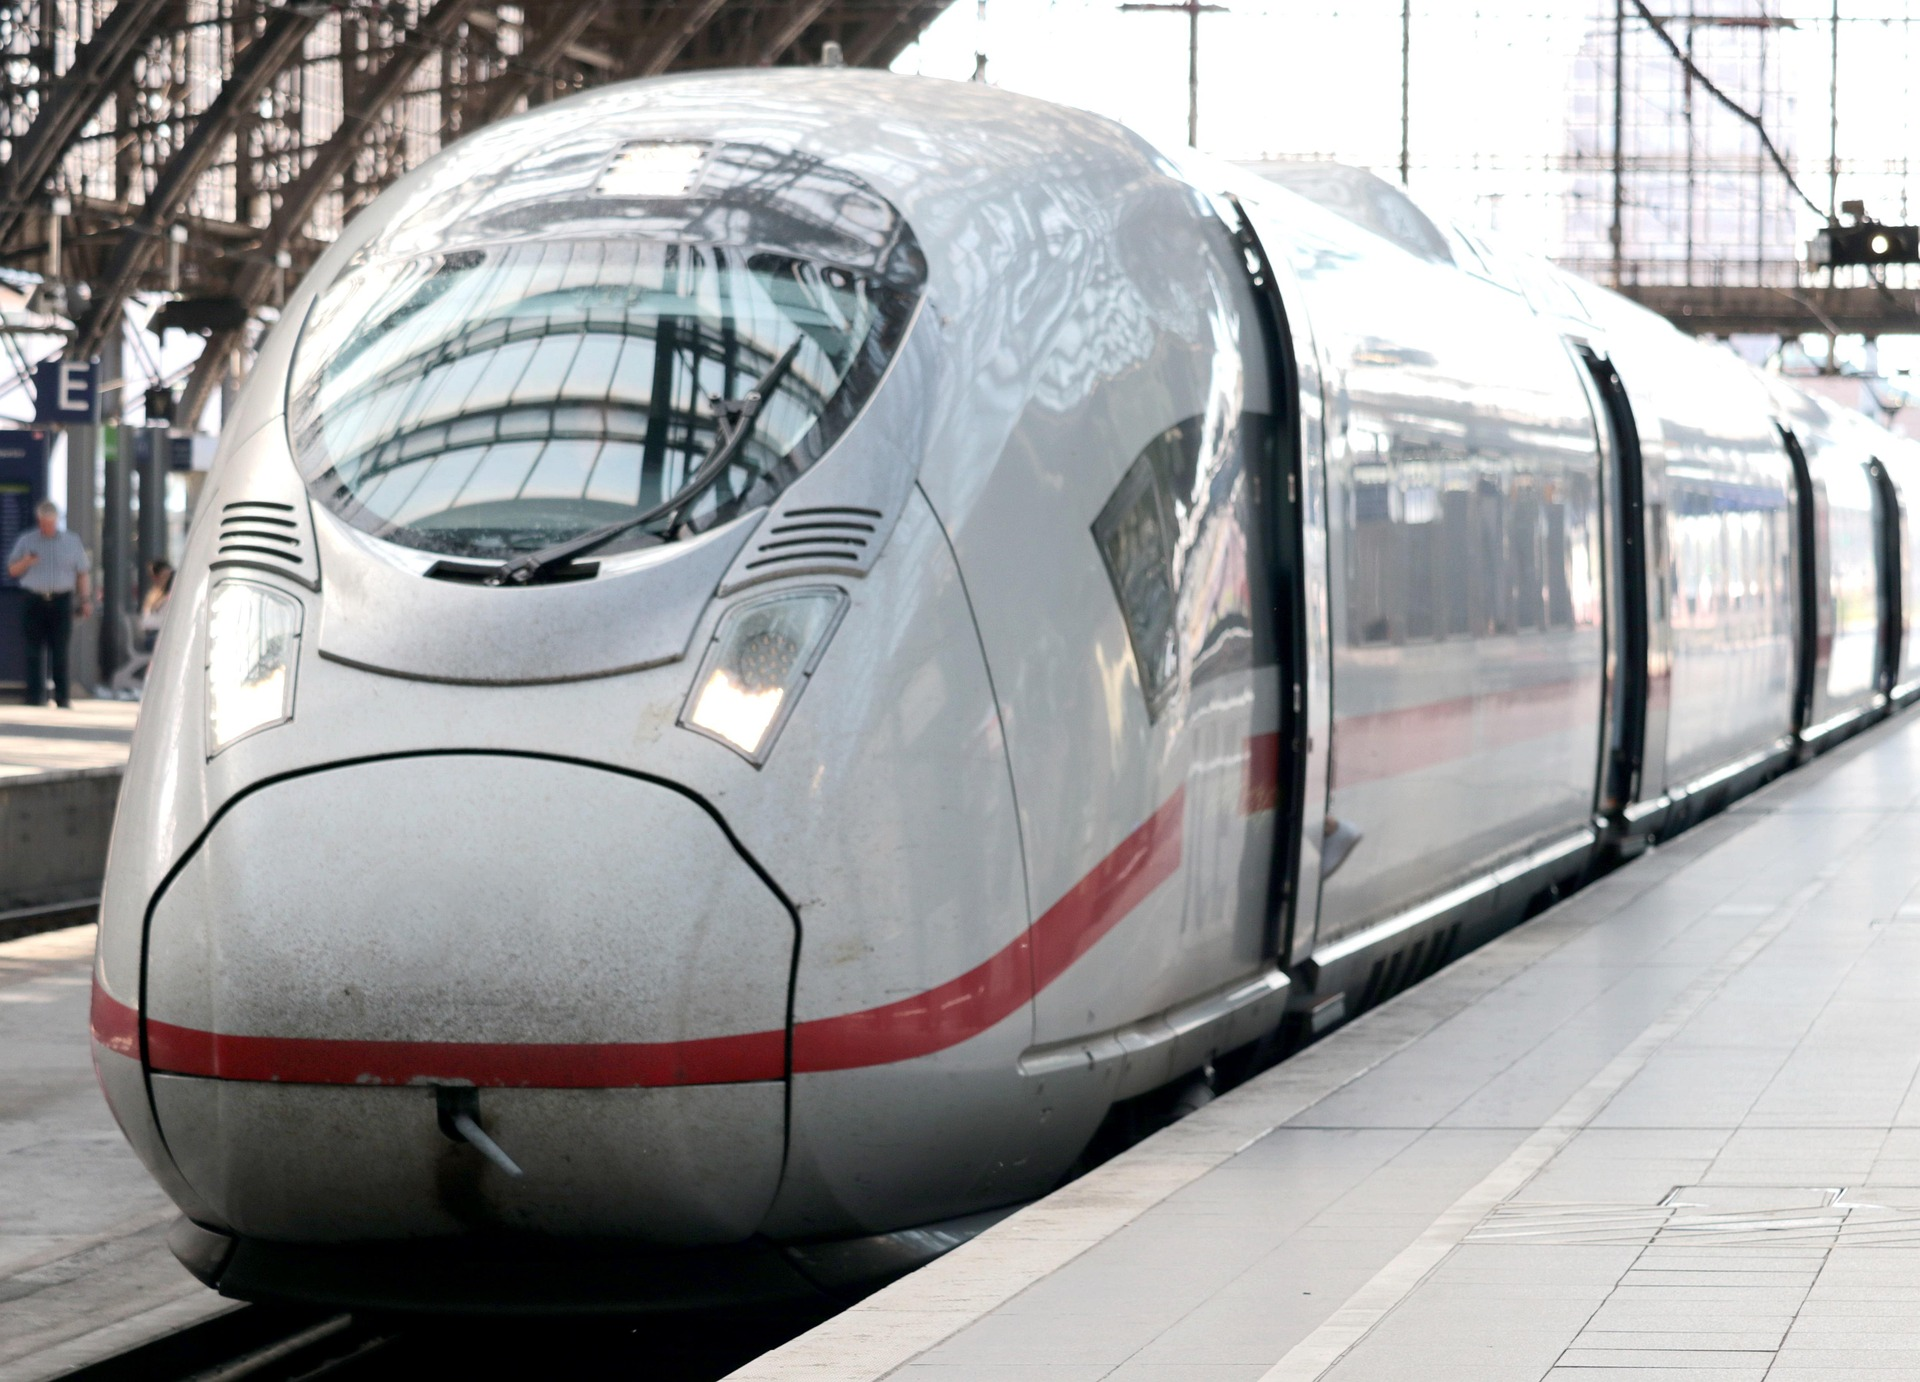train1: (83, 60, 1910, 1307)
